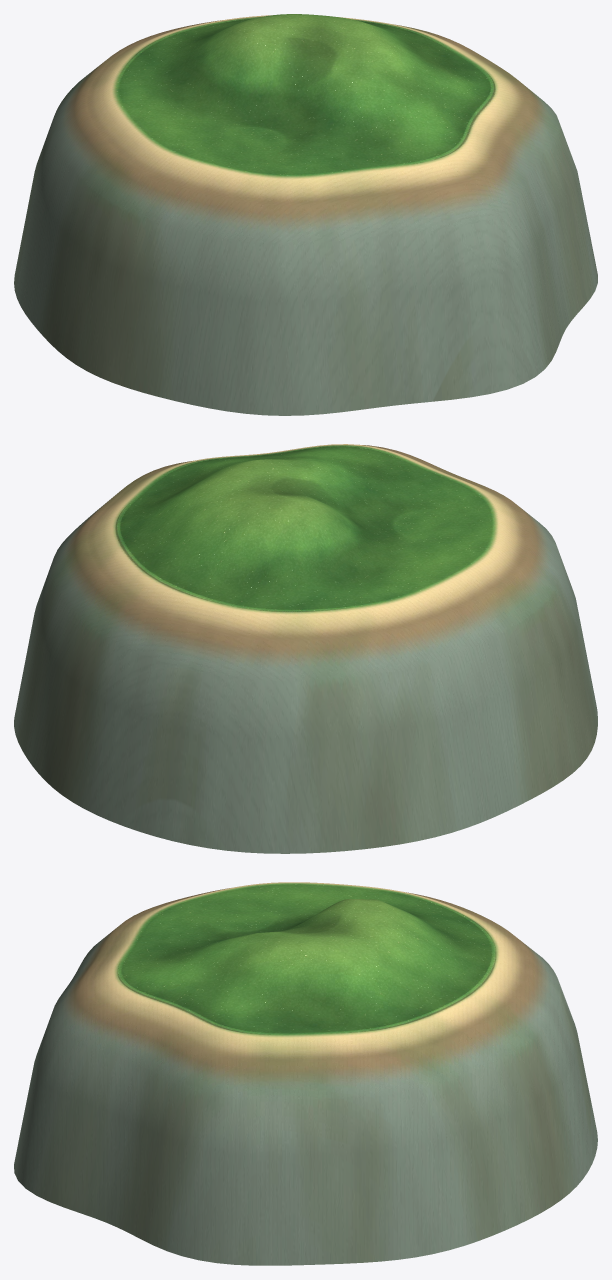
Rendered from green_0.glb.
3 renders of one model, top to bottom at view 1: azimuth 30°, elevation 25°; view 2: azimuth 150°, elevation 25°; view 3: azimuth 270°, elevation 25°, orthographic. The views are drawn at different scales.
Parts seen in each view (by area): view 1: green_0; view 2: green_0; view 3: green_0.
Boxes of the visible parts, x1=… form: green_0: x1=14, y1=14, x2=597, y2=415; green_0: x1=14, y1=444, x2=597, y2=853; green_0: x1=14, y1=882, x2=597, y2=1265.
Size of the model in its own units: 30.64 by 14.61 by 32.3.
Materials: 1 (1 with a texture image).
